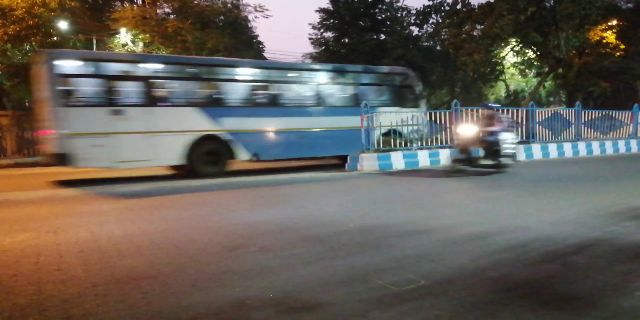Bus: (28, 42, 433, 182)
Motorbike: (454, 98, 525, 173)
